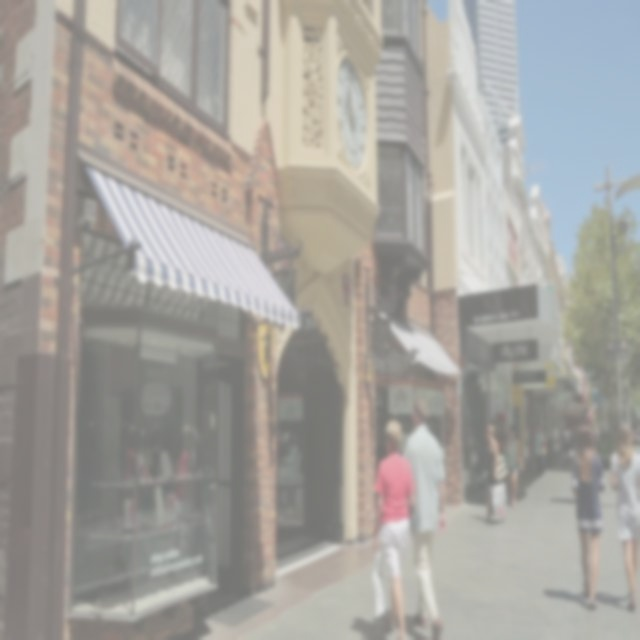pessoa: (106, 424, 208, 574), (401, 393, 449, 639), (372, 417, 417, 639), (568, 422, 608, 612), (608, 420, 640, 616), (483, 420, 509, 526), (275, 428, 302, 510), (504, 422, 524, 510), (494, 412, 509, 495), (532, 419, 548, 482), (468, 424, 480, 491), (628, 416, 640, 447), (562, 424, 572, 460), (550, 423, 560, 453), (590, 422, 602, 442), (573, 439, 577, 457)
